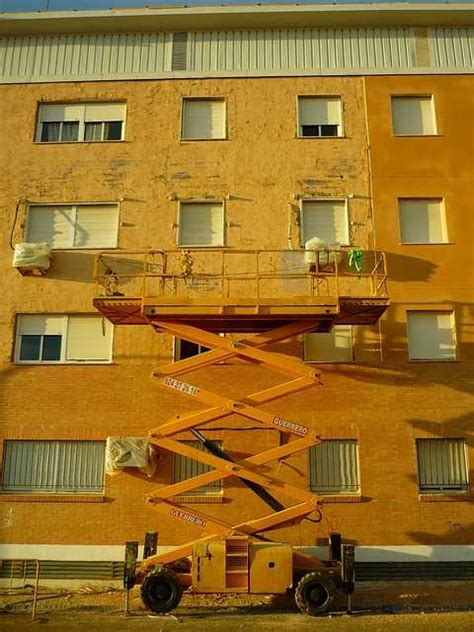Scissor Lift: (91, 247, 393, 632)
